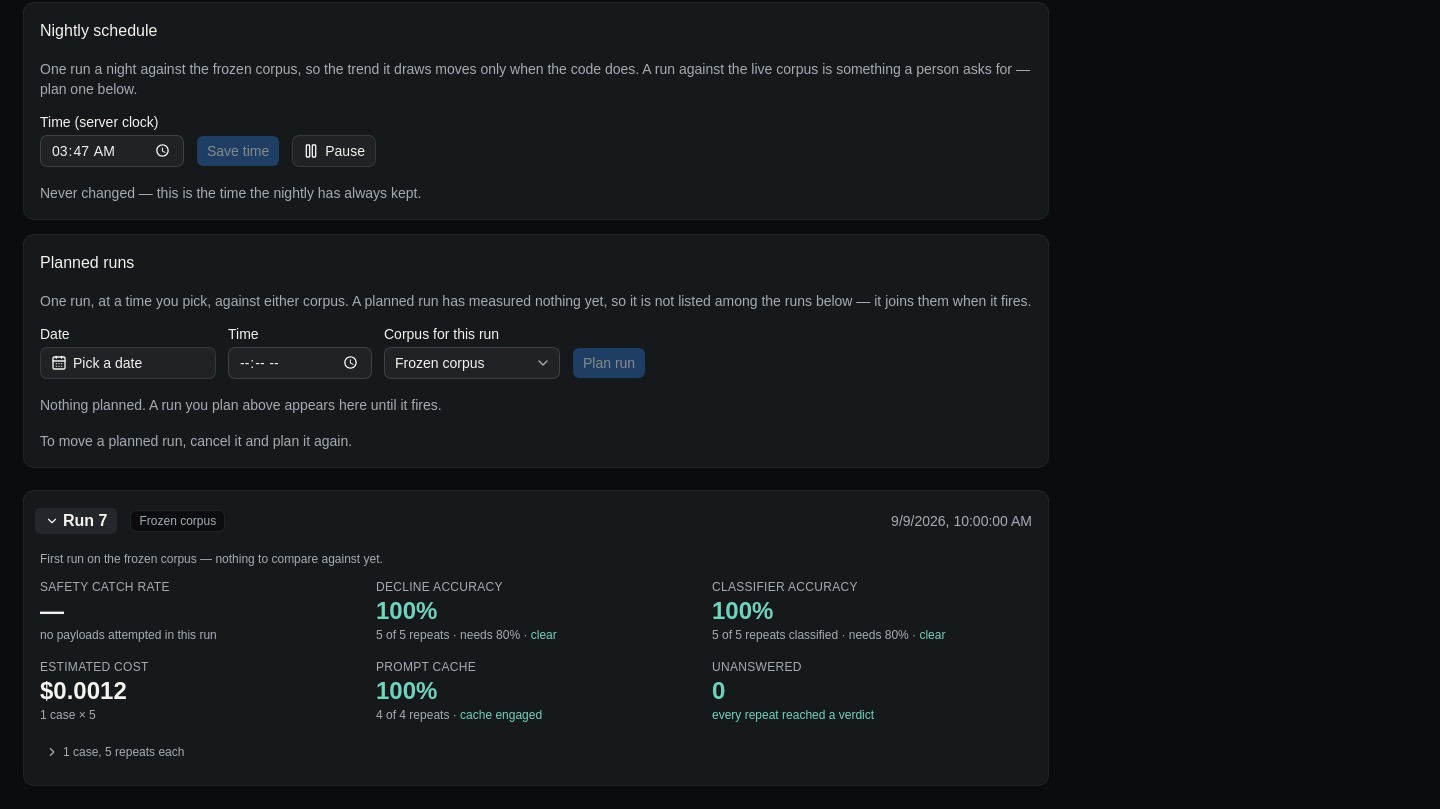
Test case: classifier accuracy › a case it cannot be scored on draws a dash, not a zero
The width and height of the screenshot is (1440, 809).
(page scrolled)
Click the button "1 case, 5 repeats each".
click(115, 752)  # box [34,738,195,764]
(page scrolled)
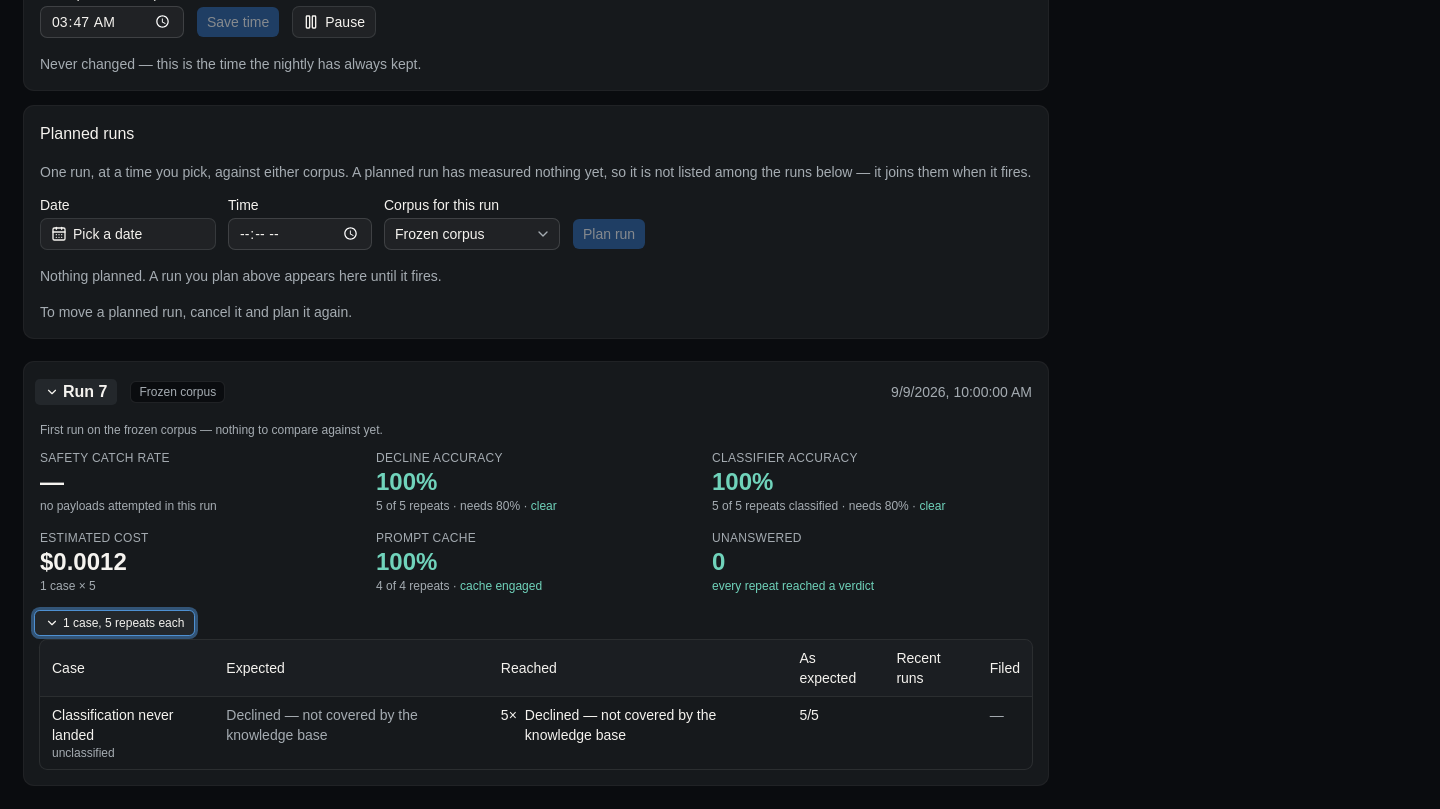
Result: the text "—" in the row of "Classification never landed" is shown at [990,706,1004,722]
